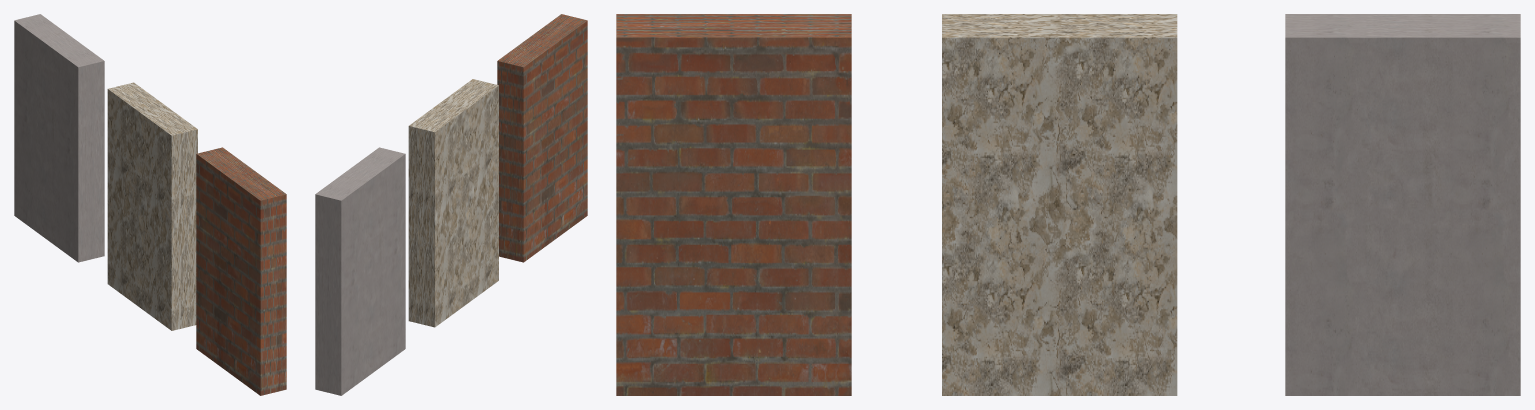
Rendered from Walls.fbx.
The picture shows the model from 3 angles, left to right: view 1: azimuth 30°, elevation 25°; view 2: azimuth 150°, elevation 25°; view 3: azimuth 270°, elevation 25°; orthographic projection. The views are drawn at different scales.
Visible parts, largest first — view 1: Cube, Cube.002, Cube.001; view 2: Cube.001, Cube.002, Cube; view 3: Cube, Cube.001, Cube.002.
Boxes of the visible parts, <box> form: Cube: <box>196,147,286,395</box>; Cube.002: <box>14,14,104,262</box>; Cube.001: <box>107,82,197,330</box>; Cube.001: <box>408,79,498,327</box>; Cube.002: <box>315,147,405,395</box>; Cube: <box>497,14,587,262</box>; Cube: <box>616,14,851,395</box>; Cube.001: <box>942,14,1177,395</box>; Cube.002: <box>1285,14,1520,395</box>.
Size of the model in its own units: 143 by 1016 by 2323.
